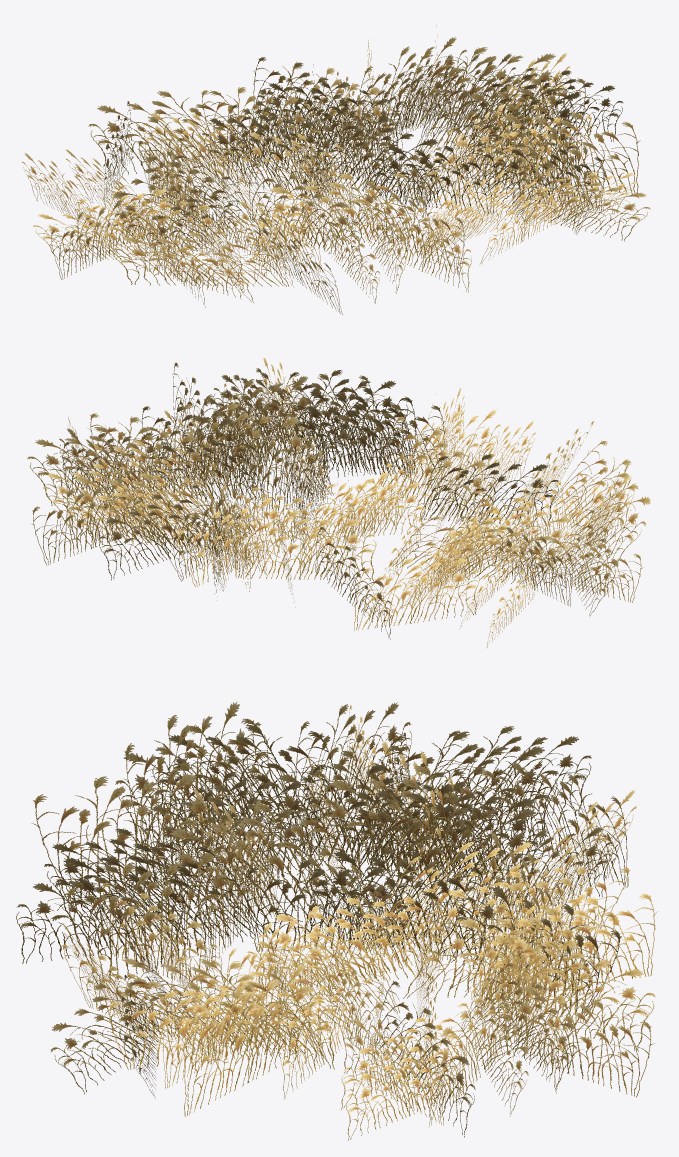
The model's file is far.glb.
The picture shows the model from 3 angles, top to bottom: view 1: azimuth 30°, elevation 25°; view 2: azimuth 150°, elevation 25°; view 3: azimuth 270°, elevation 25°; orthographic projection. The views are drawn at different scales.
Parts seen in each view (by area): view 1: lod1, lod2; view 2: lod1, lod2; view 3: lod1, lod2.
Part boxes in pixels (bbox=[...]): lod1: bbox=[22, 40, 636, 307]; lod2: bbox=[49, 25, 650, 314]; lod1: bbox=[43, 368, 634, 647]; lod2: bbox=[27, 357, 651, 639]; lod1: bbox=[16, 702, 658, 1140]; lod2: bbox=[31, 702, 655, 1137].
Size of the model in its own units: 15.41 by 2.21 by 10.91.
Materials: 1 (1 with a texture image).
